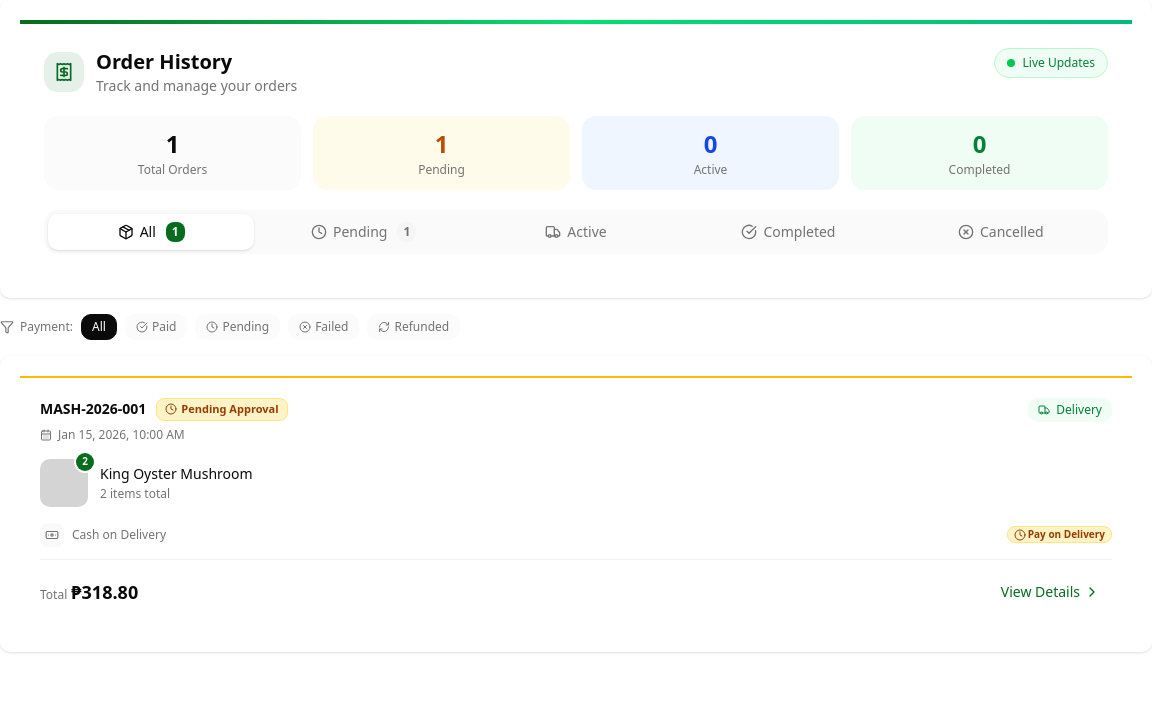
Test: PAY-016: Order History - Payment Status Display › AC4: COD-specific status labels › should show COD help text in order detail for pending COD delivery
Click the button "View Details": (1050,592) [989,572,1112,612]
(page scrolled)
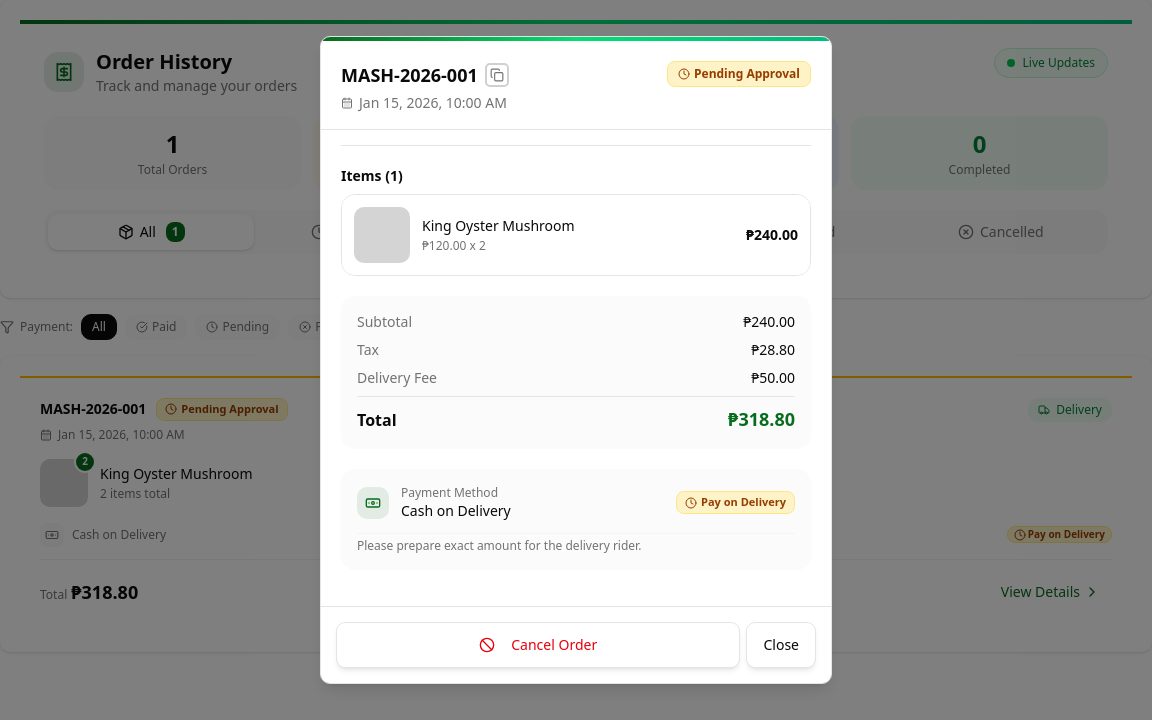
Expected: the text "Please prepare exact amount for the delivery rider." is shown, [357,532,795,554]
